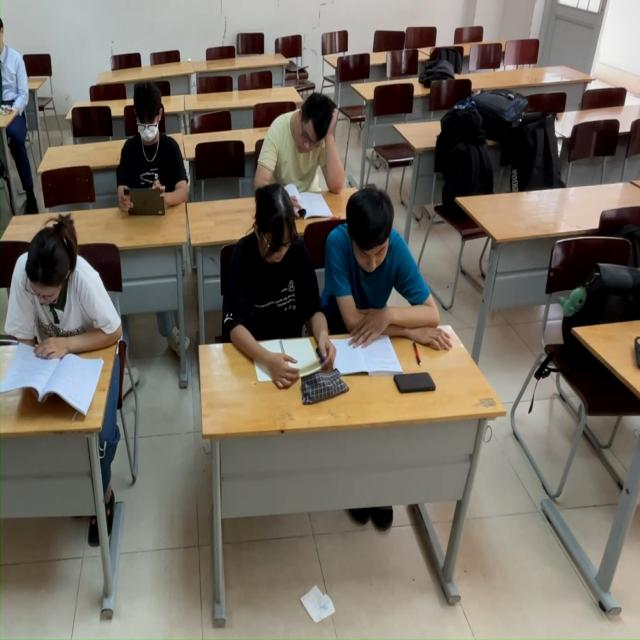read: (1, 214, 114, 415), (216, 185, 321, 395), (336, 165, 421, 375), (249, 84, 373, 199), (112, 75, 182, 231)
